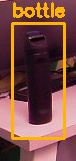bottle: (12, 23, 64, 138)
